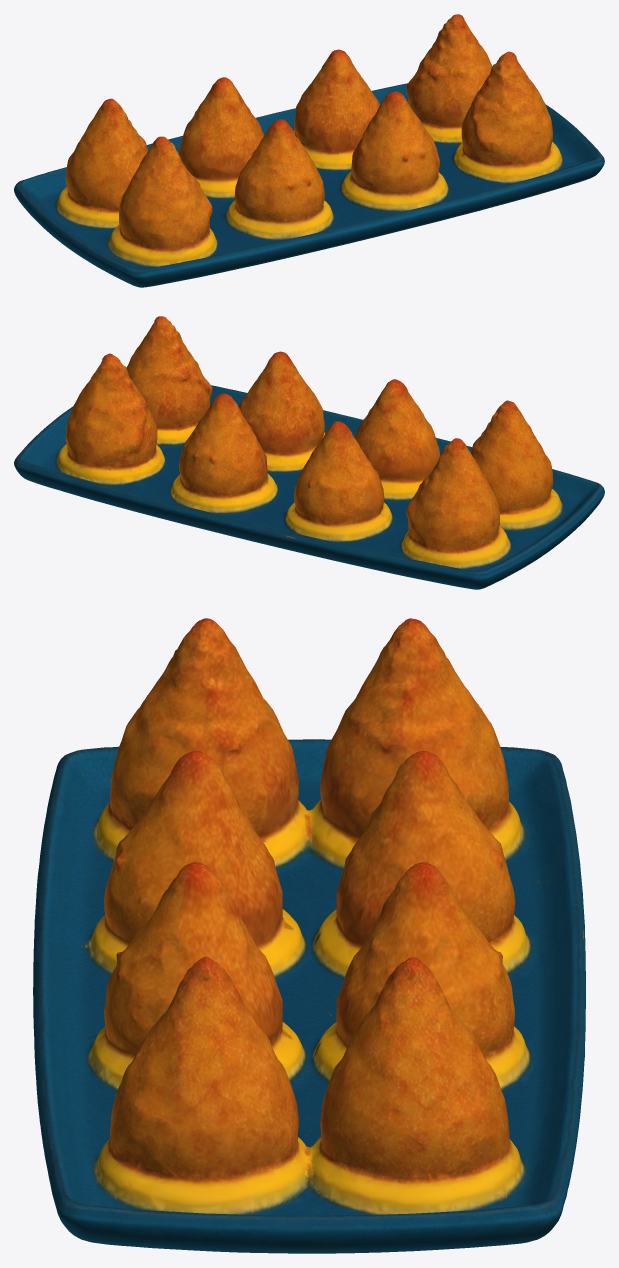
The model's file is bandeja-v2.glb.
The picture shows the model from 3 angles, top to bottom: view 1: azimuth 30°, elevation 25°; view 2: azimuth 150°, elevation 25°; view 3: azimuth 270°, elevation 25°; orthographic projection. The views are drawn at different scales.
Bounding box in the file's own units: 1.9 × 0.4313 × 0.9154.
1 material, 1 textured.
